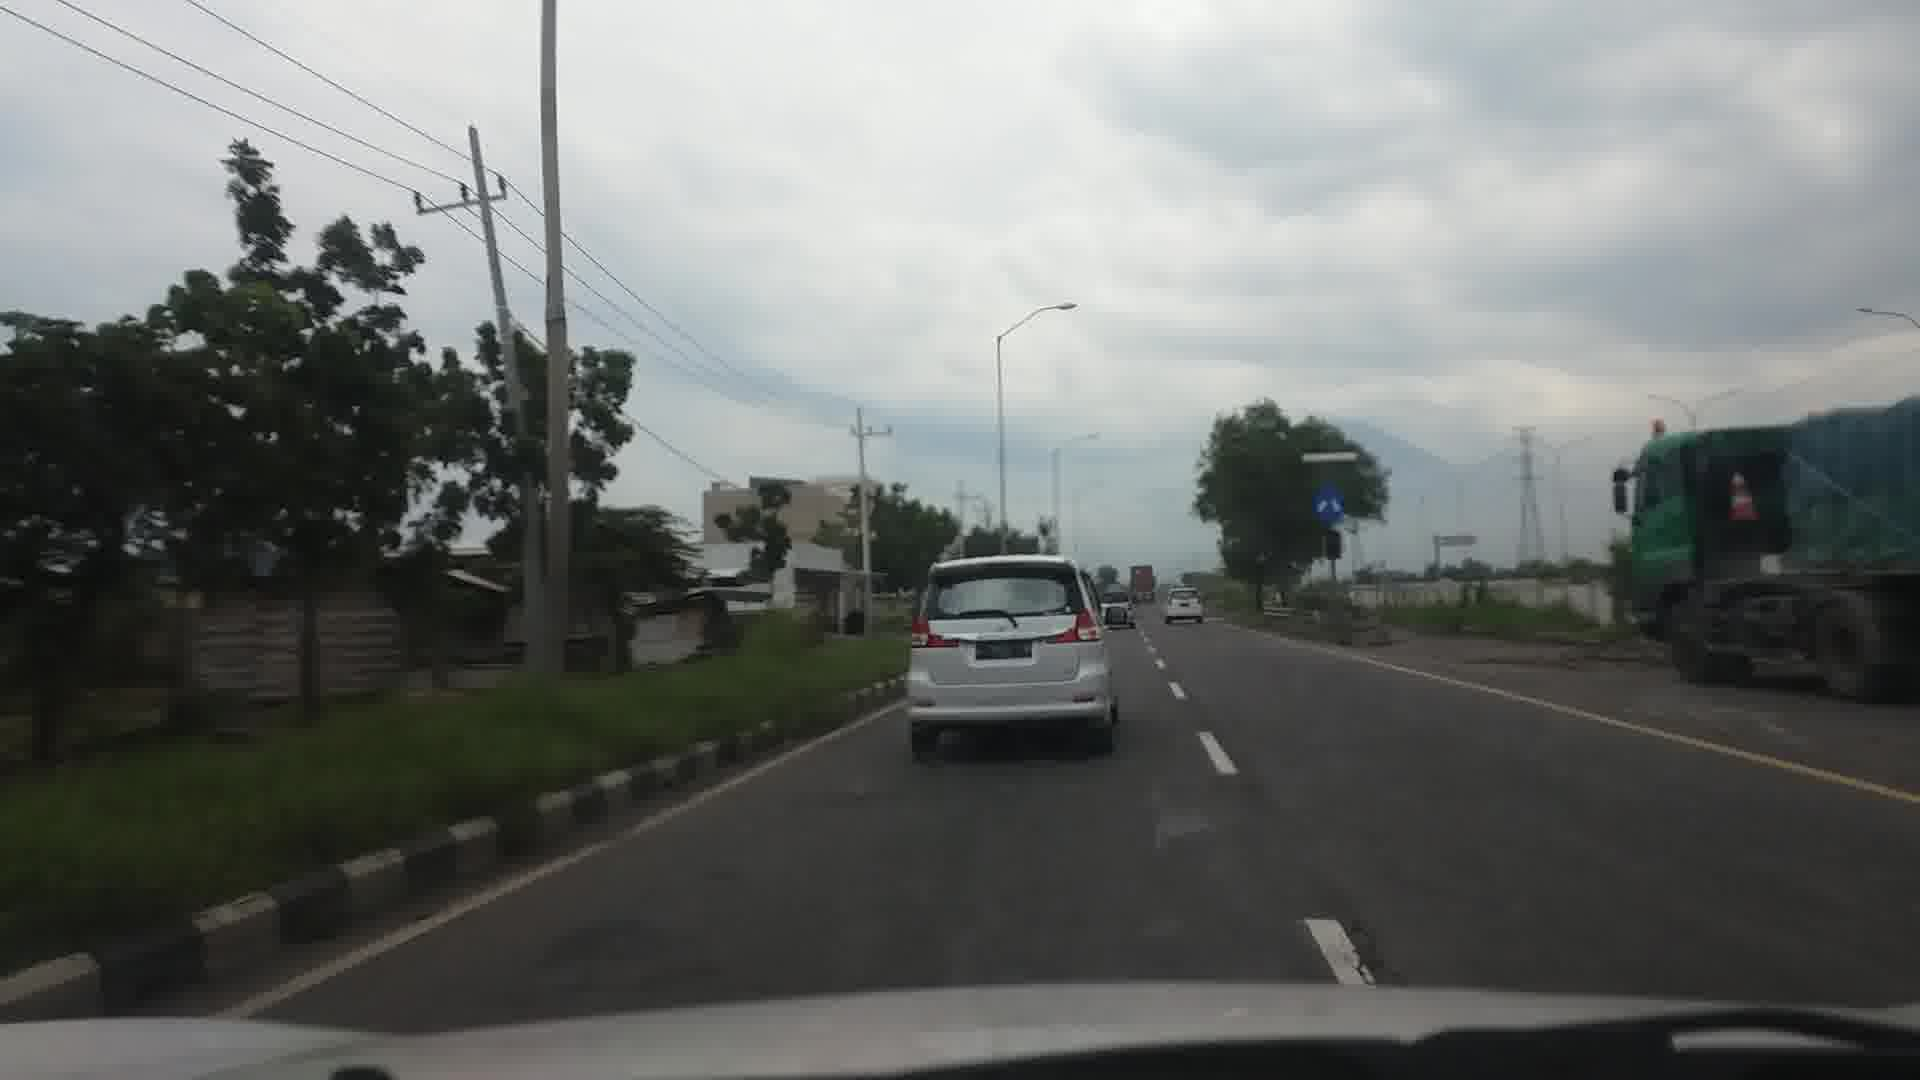plate_positive: (975, 640, 1033, 659)
